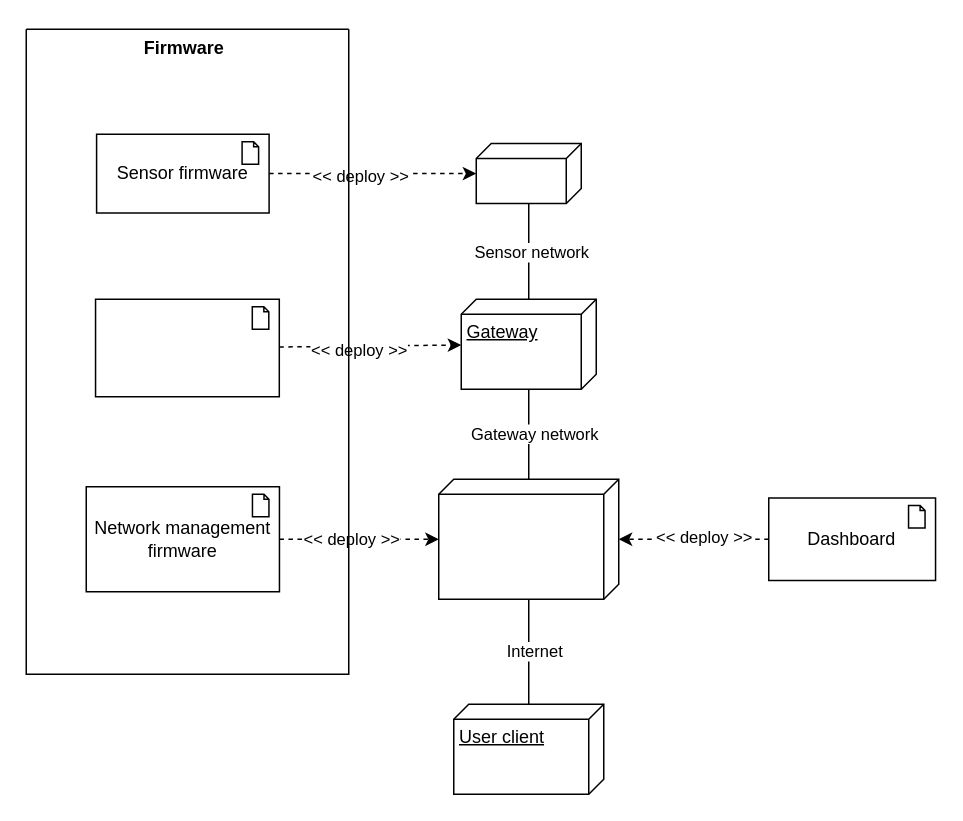
Some shapes in this 963 by 821 pixel diagram are drawn without their labels. Here are the shapes that lost their labels. From the top down, the box of each, then its label:
(475, 142, 581, 204): Sensor
(94, 298, 279, 397): Gateway firmware
(437, 478, 619, 599): GeoControl Server
